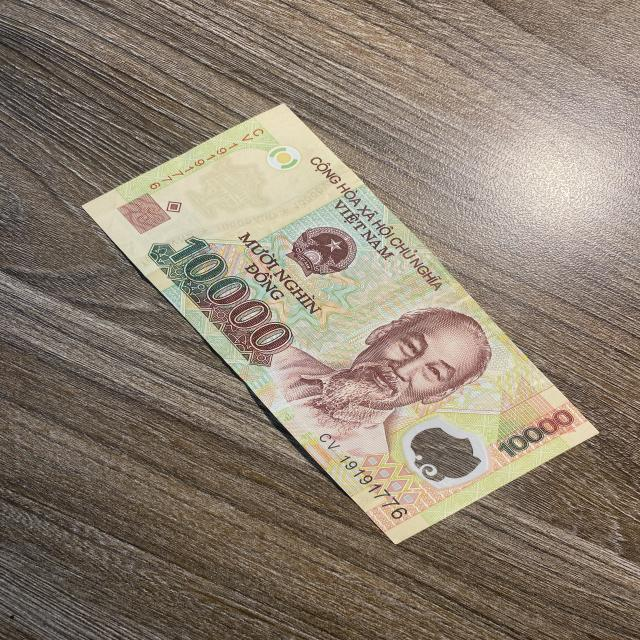10 000 VND: (78, 101, 602, 548)
